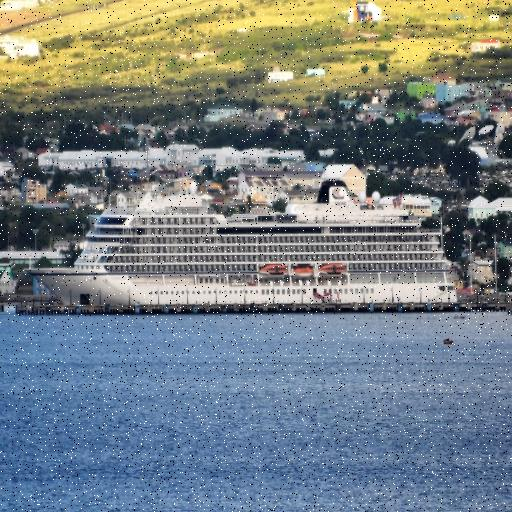cruises: (18, 180, 467, 324)
